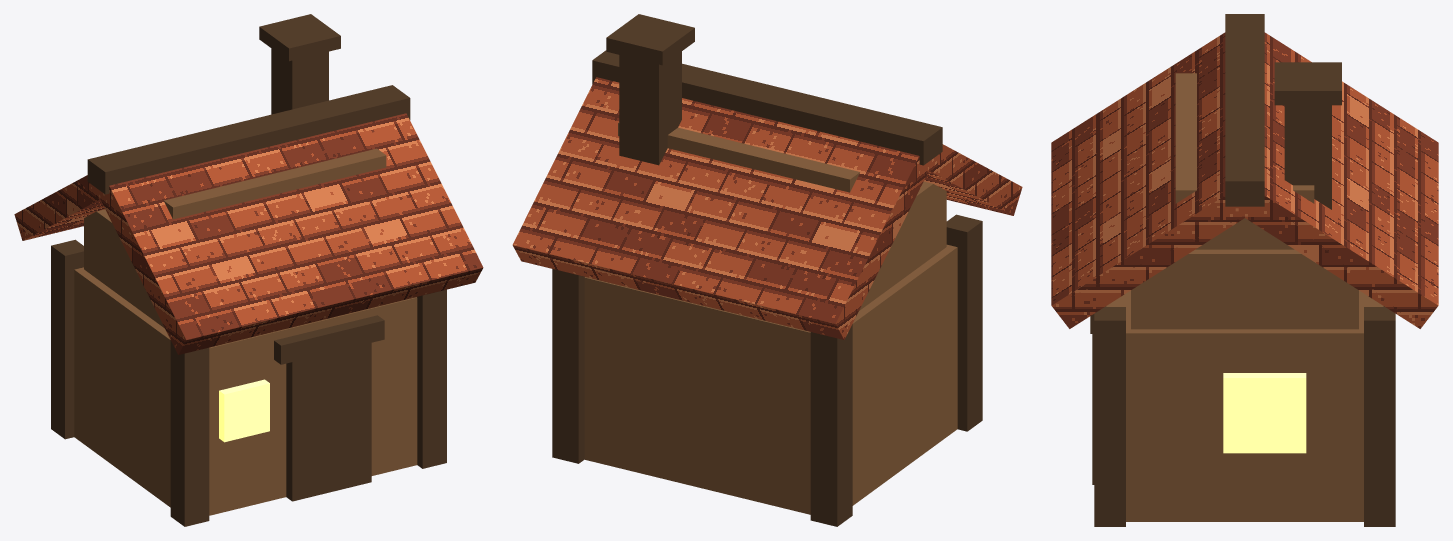
Rendered from shelter_t1.glb.
3 renders of one model, left to right at view 1: azimuth 30°, elevation 25°; view 2: azimuth 150°, elevation 25°; view 3: azimuth 270°, elevation 25°, orthographic. The views are drawn at different scales.
Parts seen in each view (by area): view 1: roof_slab_1, body, door_slab, ridge_cap, corner_post_3, corner_post_1, corner_post_2, gable_high, gable_low, roof_slab_0, smoke_stack, door_lintel (+2 smaller); view 2: body, roof_slab_0, ridge_cap, corner_post_2, corner_post_0, smoke_stack, corner_post_3, gable_high, gable_low, roof_slab_1, smoke_stack_cap; view 3: body, roof_slab_1, roof_slab_0, gable_low, ridge_cap, corner_post_0, corner_post_1, window_side, gable_high, smoke_stack, smoke_stack_cap, door_slab.
Part boxes in pixels (x1=…): roof_slab_1: x1=95, y1=113, x2=483, y2=354; body: x1=74, y1=267, x2=417, y2=515; door_slab: x1=286, y1=343, x2=371, y2=501; ridge_cap: x1=87, y1=85, x2=410, y2=194; corner_post_3: x1=170, y1=340, x2=209, y2=526; corner_post_1: x1=417, y1=289, x2=446, y2=468; corner_post_2: x1=51, y1=239, x2=83, y2=439; gable_high: x1=164, y1=148, x2=386, y2=219; gable_low: x1=84, y1=209, x2=164, y2=328; roof_slab_0: x1=14, y1=175, x2=105, y2=240; smoke_stack: x1=271, y1=48, x2=328, y2=114; door_lintel: x1=274, y1=315, x2=384, y2=364; body: x1=584, y1=244, x2=957, y2=514; roof_slab_0: x1=512, y1=77, x2=934, y2=339; ridge_cap: x1=592, y1=50, x2=942, y2=165; corner_post_2: x1=810, y1=324, x2=852, y2=526; corner_post_0: x1=552, y1=269, x2=584, y2=463; smoke_stack: x1=619, y1=51, x2=681, y2=165; corner_post_3: x1=946, y1=214, x2=982, y2=431; gable_high: x1=618, y1=122, x2=859, y2=192; gable_low: x1=859, y1=181, x2=946, y2=310; roof_slab_1: x1=924, y1=144, x2=1022, y2=215; smoke_stack_cap: x1=606, y1=14, x2=694, y2=65; body: x1=1106, y1=290, x2=1383, y2=521; roof_slab_1: x1=1051, y1=32, x2=1255, y2=328; roof_slab_0: x1=1234, y1=32, x2=1438, y2=328; gable_low: x1=1131, y1=249, x2=1358, y2=329; ridge_cap: x1=1225, y1=14, x2=1264, y2=206; corner_post_0: x1=1364, y1=307, x2=1395, y2=526; corner_post_1: x1=1094, y1=307, x2=1125, y2=526; window_side: x1=1223, y1=373, x2=1306, y2=453; gable_high: x1=1175, y1=73, x2=1314, y2=249; smoke_stack: x1=1284, y1=105, x2=1331, y2=209; smoke_stack_cap: x1=1274, y1=62, x2=1341, y2=105; door_slab: x1=1092, y1=334, x2=1094, y2=484.
Size of what is drawn, in the model's own units: 2 by 2.35 by 1.95.
4 materials, 1 textured.
